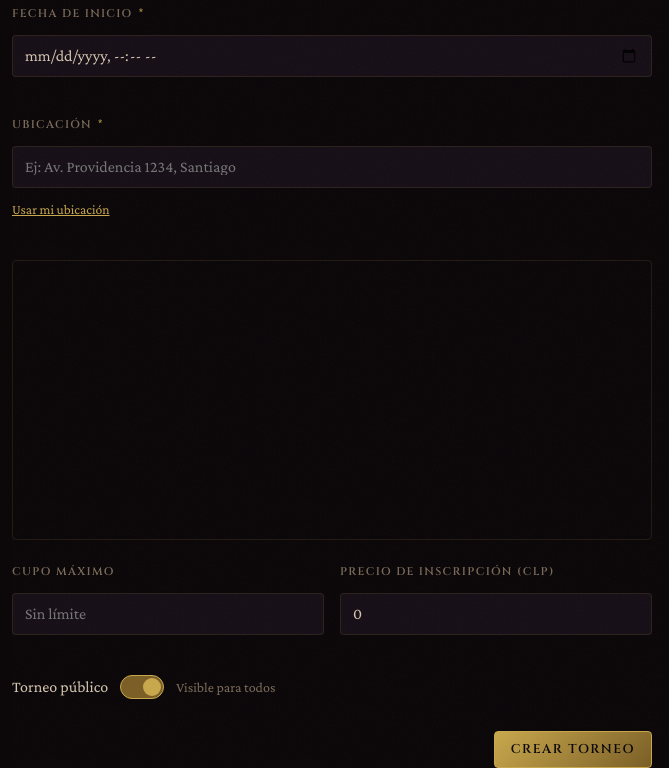
Scenario: FormularioTorneo › valida campos requeridos al enviar vacío
(page scrolled)
Click the button "Crear torneo".
click(573, 750)  # box x1=494 y1=731 x2=652 y2=767
(page scrolled)
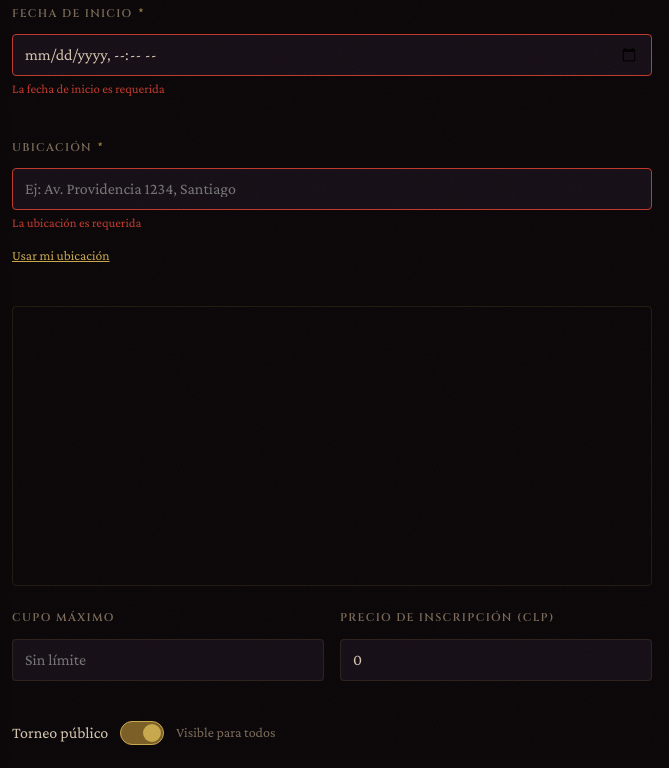
Expected: the text "La fecha de inicio es requerida" is shown, x1=12 y1=82 x2=165 y2=96
Expected: the text "La ubicación es requerida" is shown, x1=12 y1=216 x2=141 y2=230
